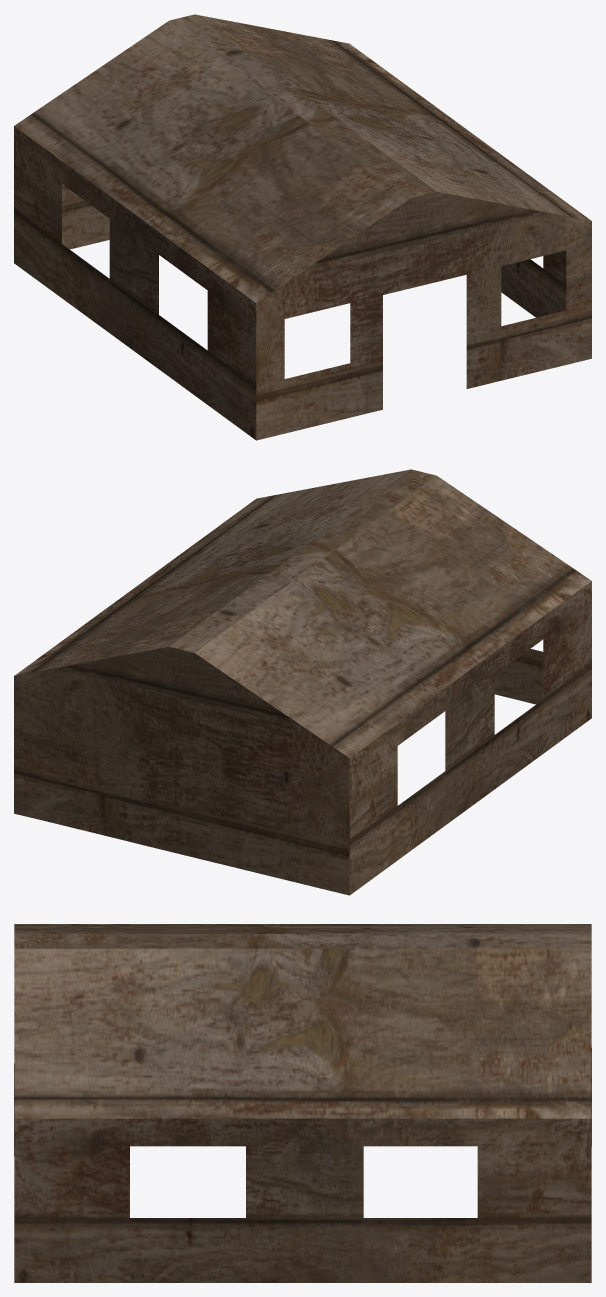
Rendered from Pared.fbx.
3 views of the same model, one above another, from view 1: azimuth 30°, elevation 25°; view 2: azimuth 150°, elevation 25°; view 3: azimuth 270°, elevation 25° (orthographic). The views are drawn at different scales.
Visible parts, largest first — view 1: Pared; view 2: Pared; view 3: Pared.
Part boxes in pixels (left/top/right/bottom): Pared: left=14, top=14, right=591, bottom=440; Pared: left=14, top=469, right=591, bottom=895; Pared: left=14, top=924, right=591, bottom=1282.
Bounding box in the file's own units: 6.12 × 3.57 × 7.66.
